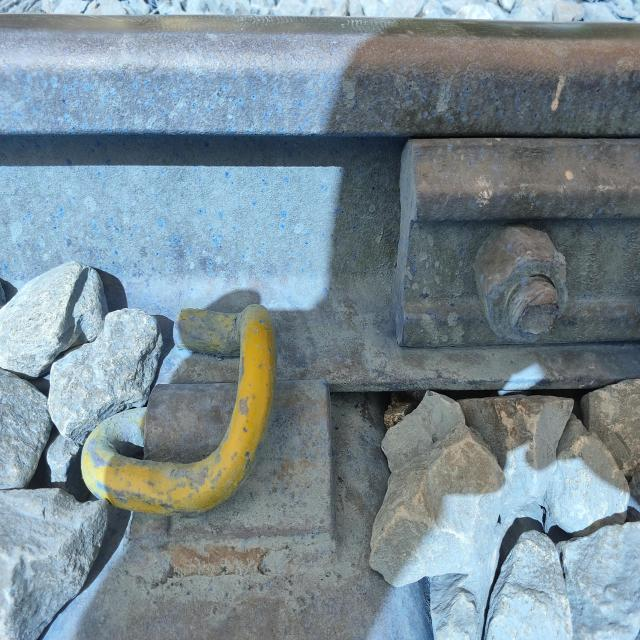Good Fasteners: (48, 305, 341, 639)
